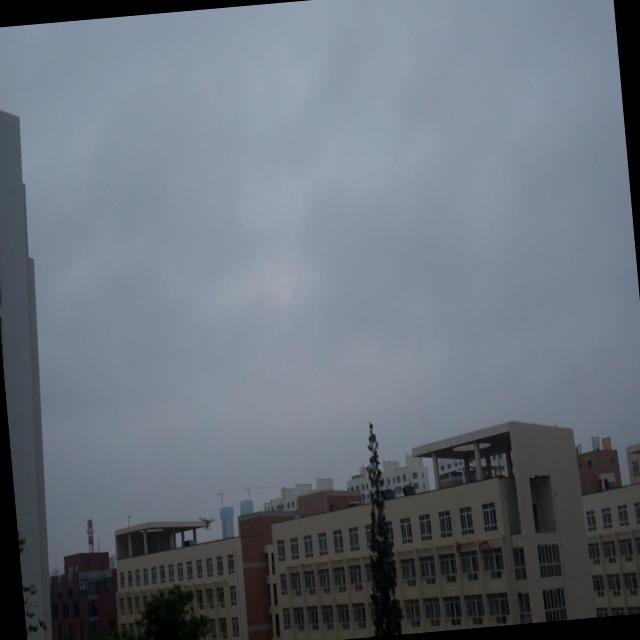drone: (199, 510, 216, 530)
